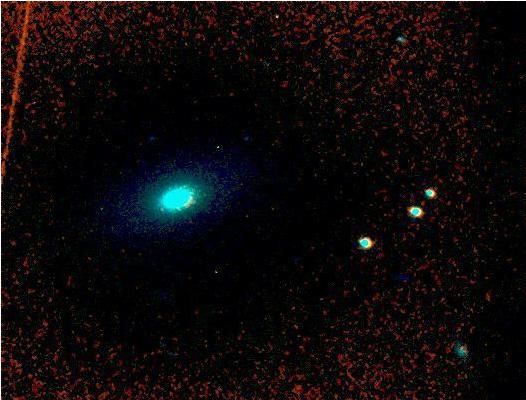star: (219, 81, 249, 111)
